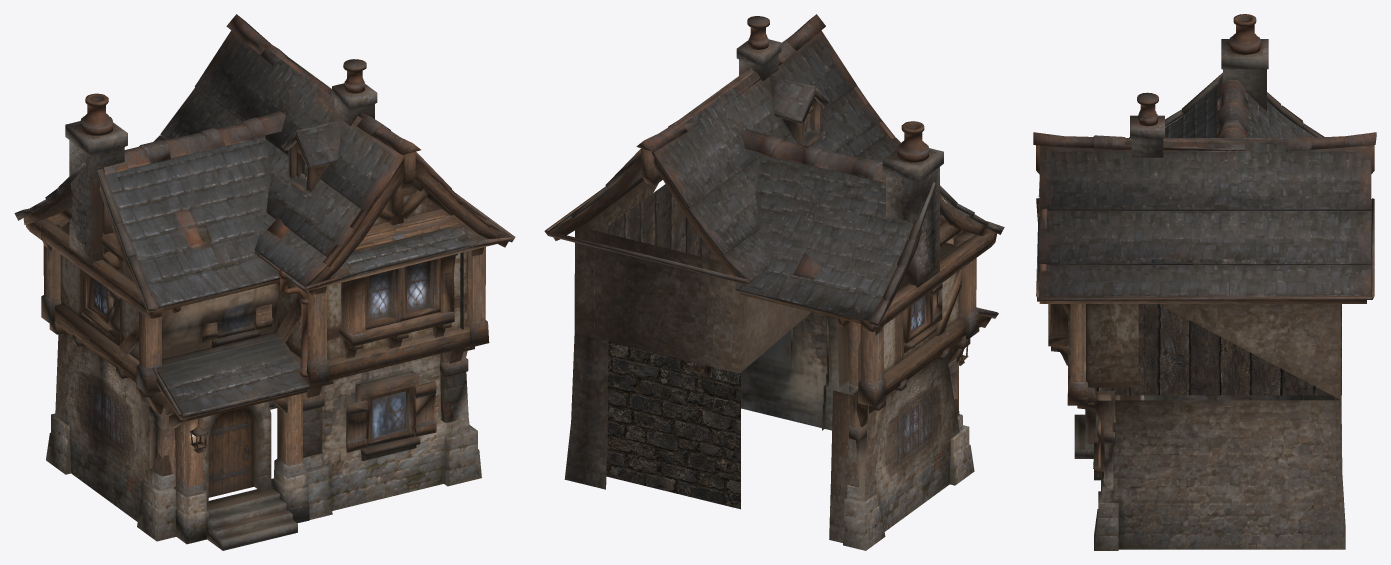
Rendered from inn.glb.
3 renders of one model, left to right at view 1: azimuth 30°, elevation 25°; view 2: azimuth 150°, elevation 25°; view 3: azimuth 270°, elevation 25°, orthographic. The views are drawn at different scales.
Visible parts, largest first — view 1: tripo_node_2c8170cd-f2d3-4af2-8b85-275d5ab2b682; view 2: tripo_node_2c8170cd-f2d3-4af2-8b85-275d5ab2b682, Inn recessed infill; view 3: tripo_node_2c8170cd-f2d3-4af2-8b85-275d5ab2b682, Inn recessed infill.
Part boxes in pixels (<box>): tripo_node_2c8170cd-f2d3-4af2-8b85-275d5ab2b682: <box>14,14,515,550</box>; tripo_node_2c8170cd-f2d3-4af2-8b85-275d5ab2b682: <box>544,14,1004,550</box>; Inn recessed infill: <box>594,184,740,509</box>; tripo_node_2c8170cd-f2d3-4af2-8b85-275d5ab2b682: <box>1033,14,1376,550</box>; Inn recessed infill: <box>1068,304,1341,395</box>.
Size of the model in its own units: 10 by 11.91 by 9.11.
Materials: 3 (3 with a texture image).
